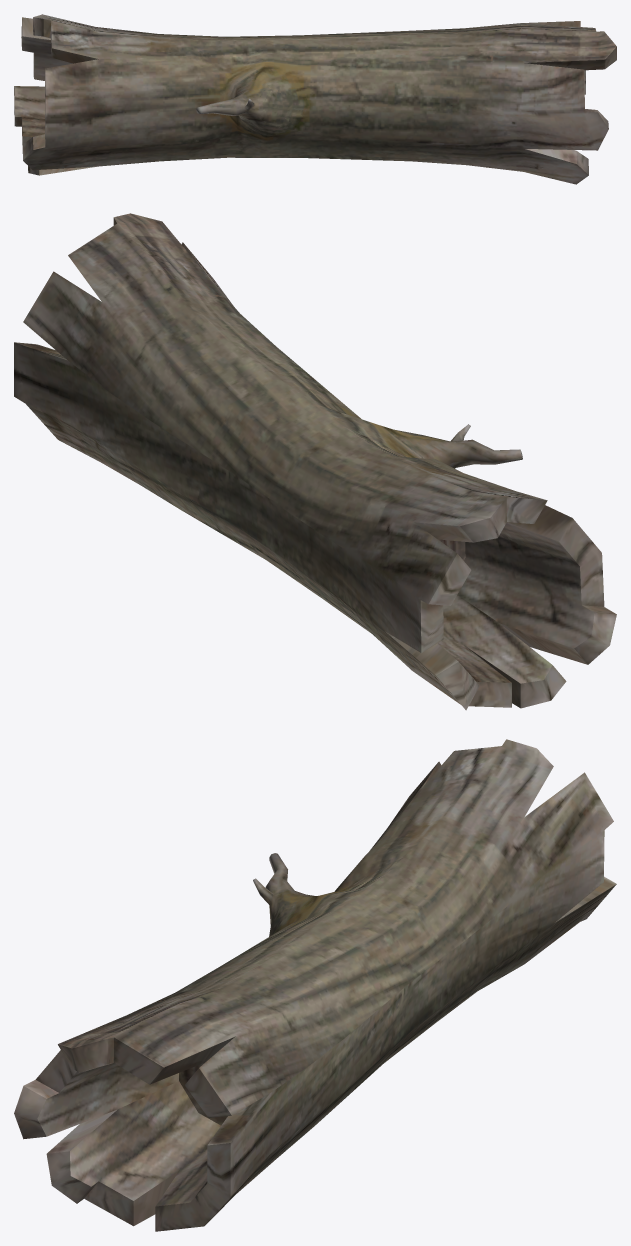
Rendered from Forest_TreeStump01.fbx.
The picture shows the model from 3 angles, top to bottom: view 1: azimuth 30°, elevation 25°; view 2: azimuth 150°, elevation 25°; view 3: azimuth 270°, elevation 25°; orthographic projection. The views are drawn at different scales.
Parts seen in each view (by area): view 1: ItemBox_TreeStump_02_0_6; view 2: ItemBox_TreeStump_02_0_6; view 3: ItemBox_TreeStump_02_0_6.
Boxes of the visible parts, x1,y1,x2,y2 form: ItemBox_TreeStump_02_0_6: (14, 14, 616, 184); ItemBox_TreeStump_02_0_6: (14, 213, 616, 710); ItemBox_TreeStump_02_0_6: (14, 739, 616, 1231).
Size of the model in its own units: 343 by 105 by 260.
Materials: 1 (1 with a texture image).
